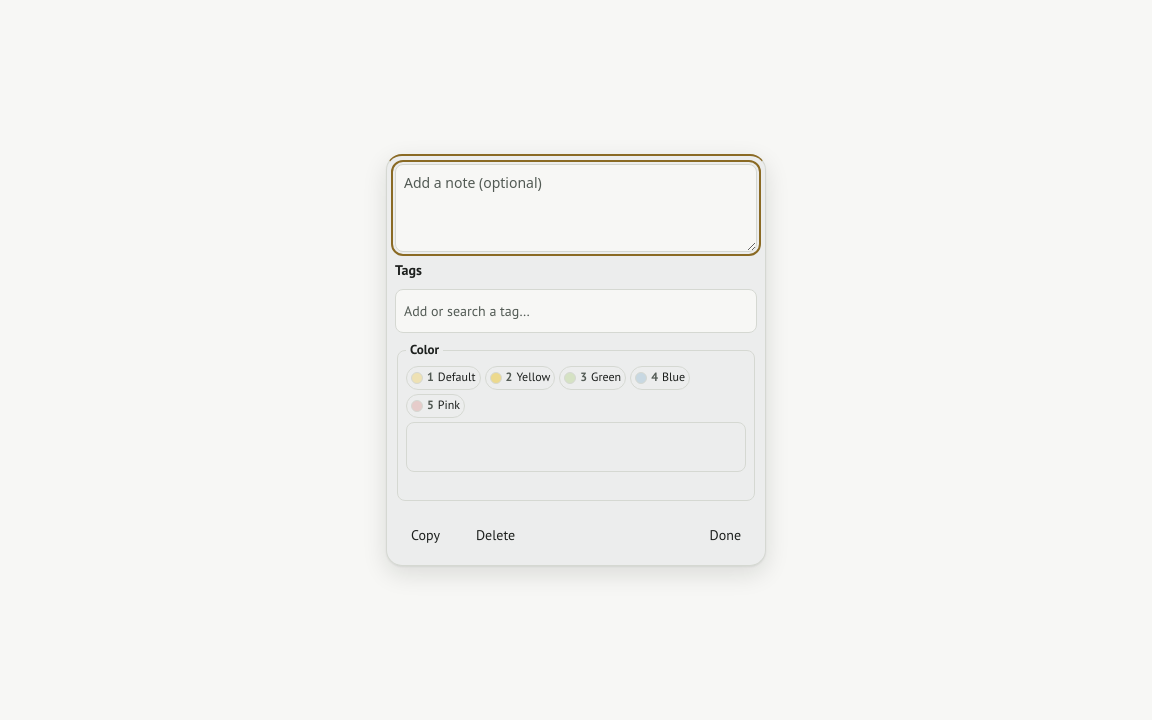
Test case: HighlightTagsDialog — the always-visible tag field (issue #207) › layered Escape 1: an open suggestion list dismisses; draft text and panel survive
This screenshot has width=1152, height=720.
Type "philosophy" into the dropdown with placeholder "Add or search a tag…". click: (576, 311)
box: [395,289,757,333]
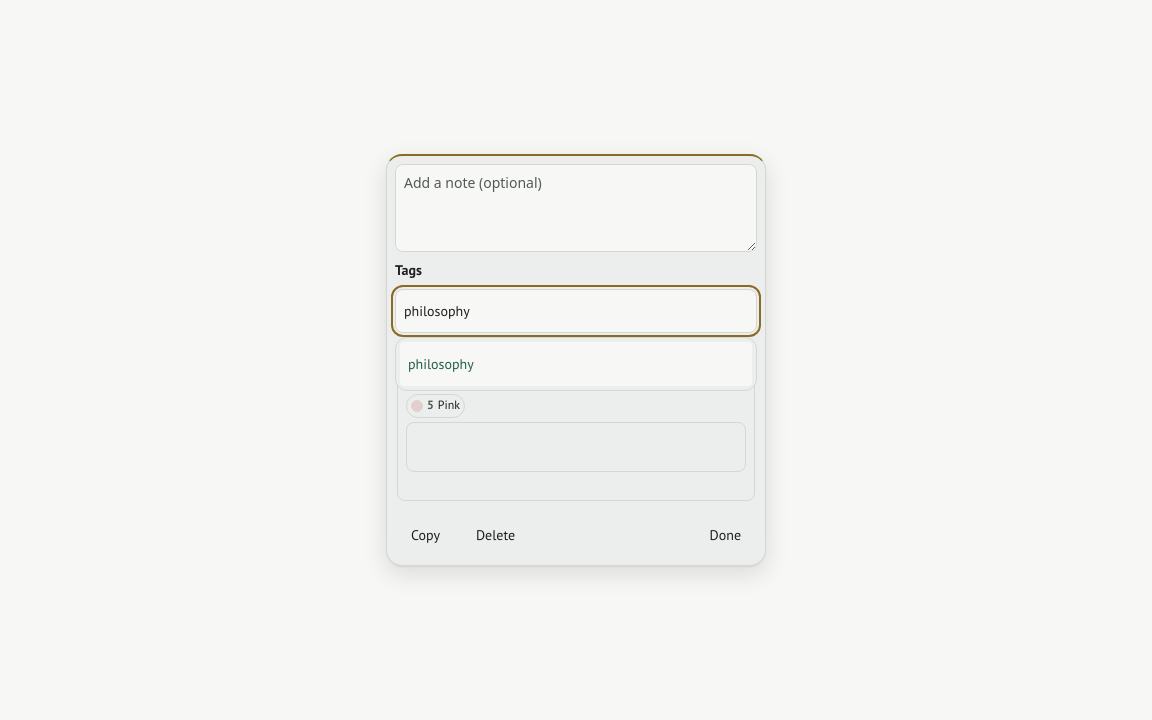
Check: the list is shown, box [395,337,757,391]
Press Escape
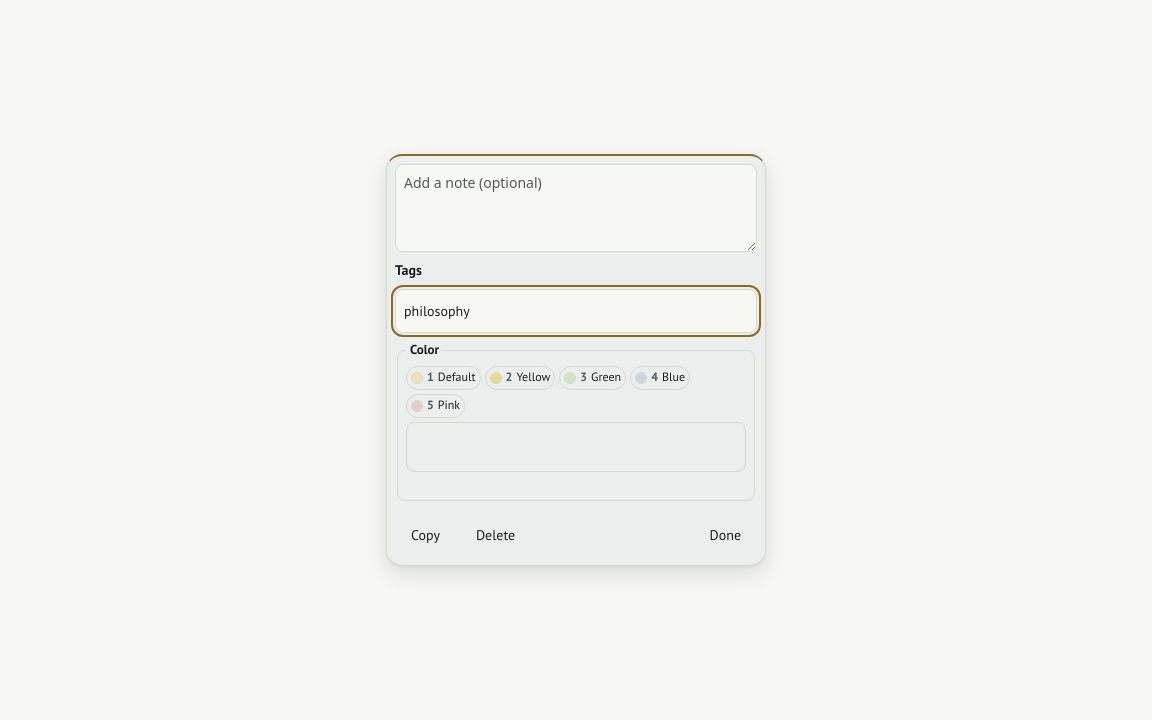
Check: the list is gone
